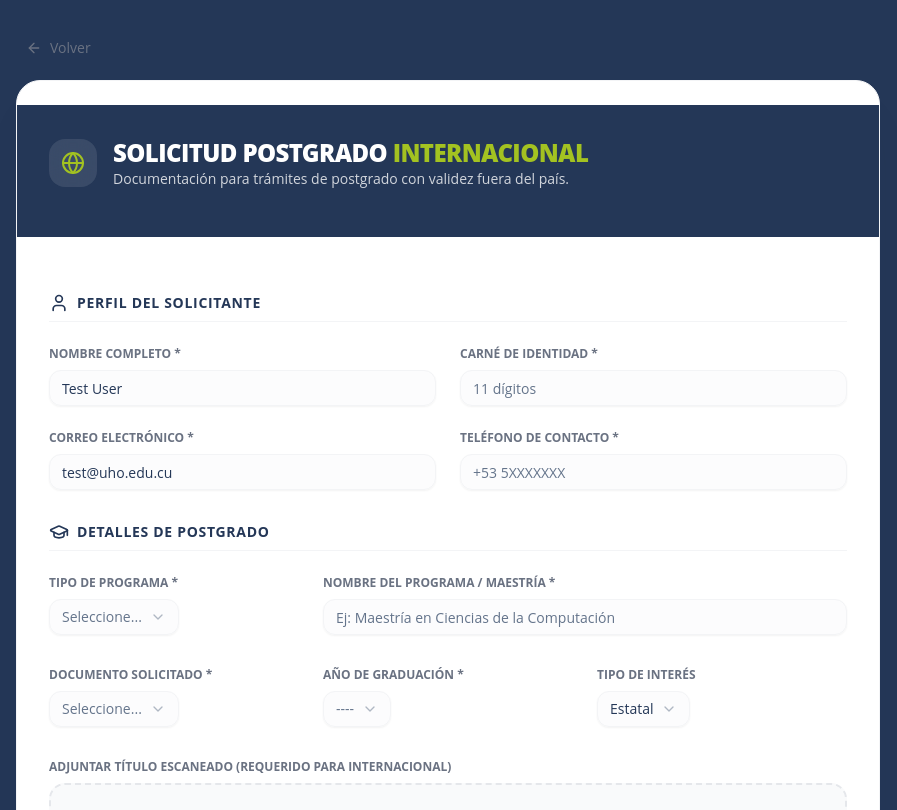
it: PostInterProcedure validación común › exige carné de identidad
Clear the field labelled "Carné de Identidad *" at (654,388), box [460,370,847,406]
(page scrolled)
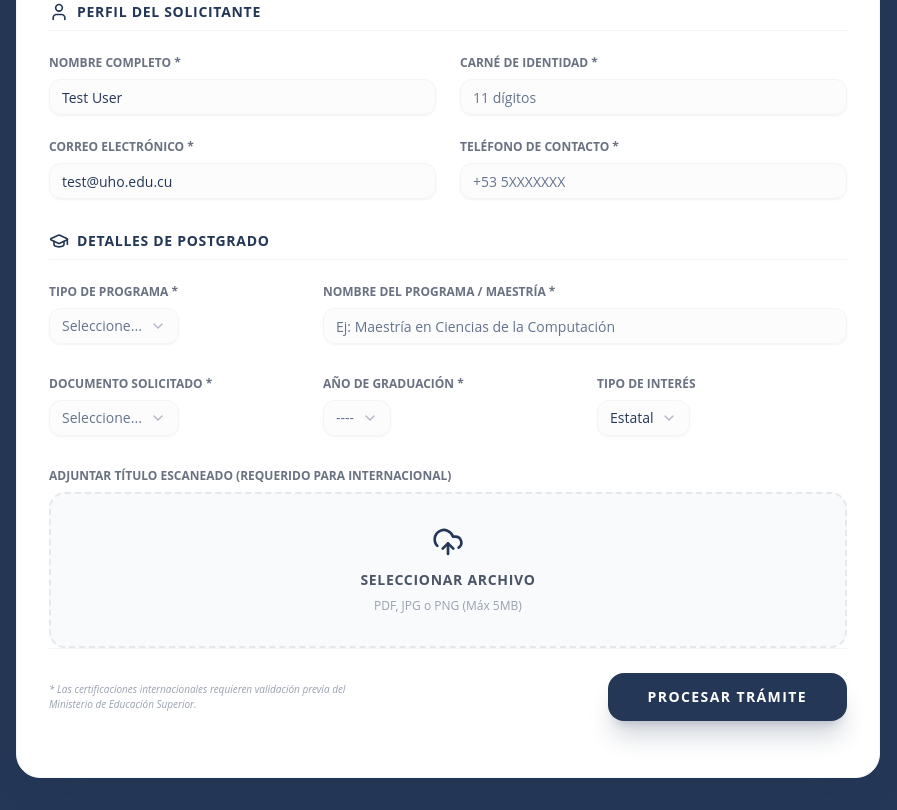
Click the button "Procesar Trámite".
click(727, 697)  # box [608,673,847,721]
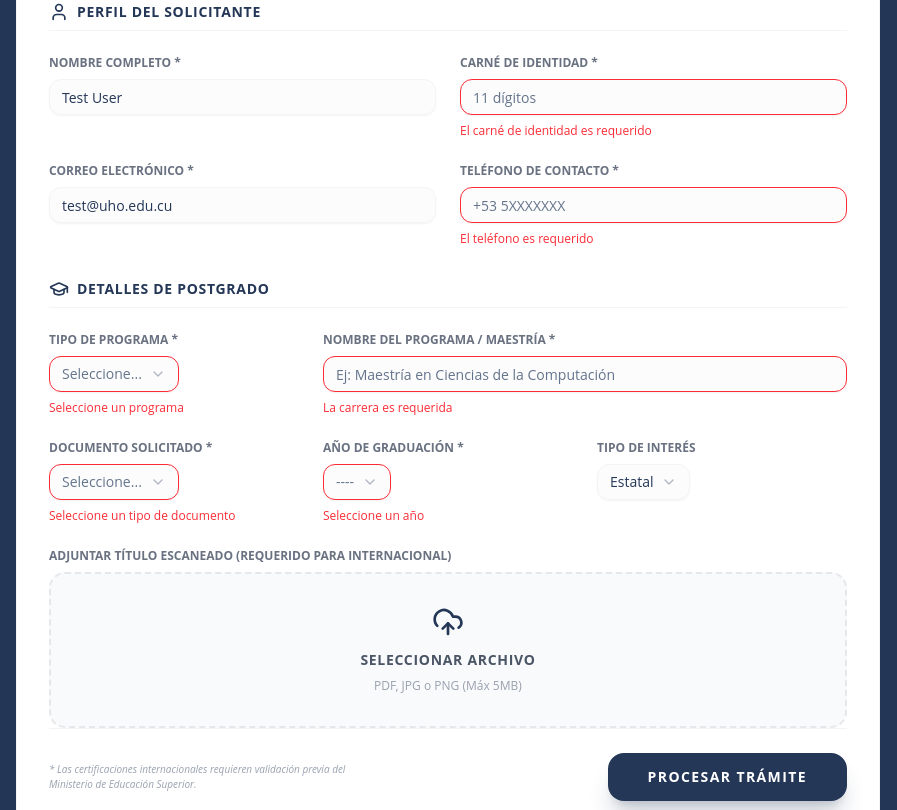
Expected: the text "El carné de identidad es requerido" is shown, [460,122,652,139]
